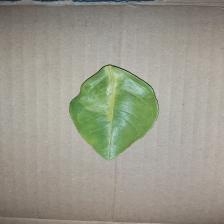greening: (65, 62, 160, 161)
